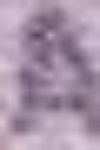A: (0, 0, 99, 149)
